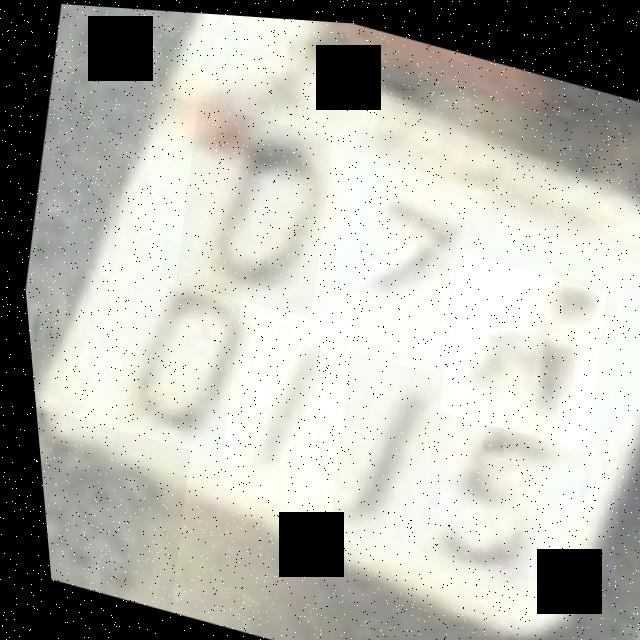0: (88, 229, 277, 487)
1: (285, 327, 464, 556), (195, 287, 363, 514)
5: (392, 377, 582, 580)
6: (28, 402, 193, 612)
N: (420, 244, 612, 445)
O: (158, 96, 343, 317)
Z: (296, 149, 485, 375)
